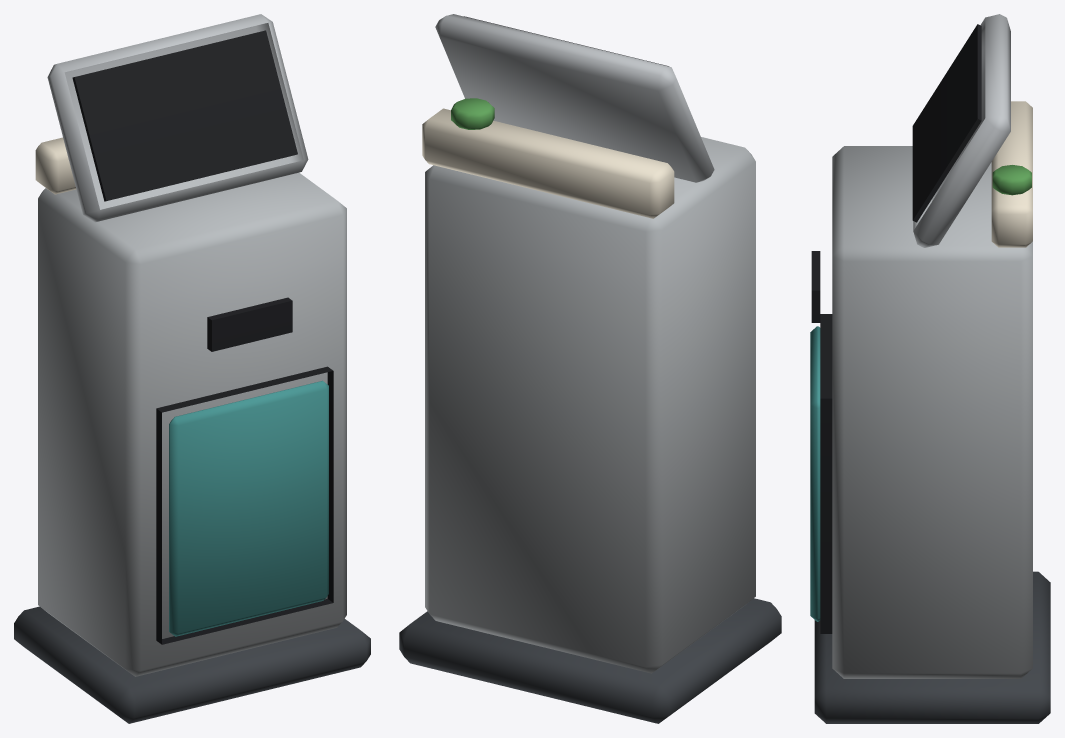
The model's file is SelfCheckout_Attendant_01.glb.
3 views of the same model, side by side, from view 1: azimuth 30°, elevation 25°; view 2: azimuth 150°, elevation 25°; view 3: azimuth 270°, elevation 25° (orthographic). The views are drawn at different scales.
Parts seen in each view (by area): view 1: SM_SelfCheckout_Attendant_01; view 2: SM_SelfCheckout_Attendant_01; view 3: SM_SelfCheckout_Attendant_01.
Boxes of the visible parts, x1,y1,x2,y2 form: SM_SelfCheckout_Attendant_01: (14, 14, 370, 723); SM_SelfCheckout_Attendant_01: (399, 14, 781, 723); SM_SelfCheckout_Attendant_01: (810, 14, 1050, 723).
Bounding box in the file's own units: 0.5 × 1.13 × 0.407.
1 material, 1 textured.
